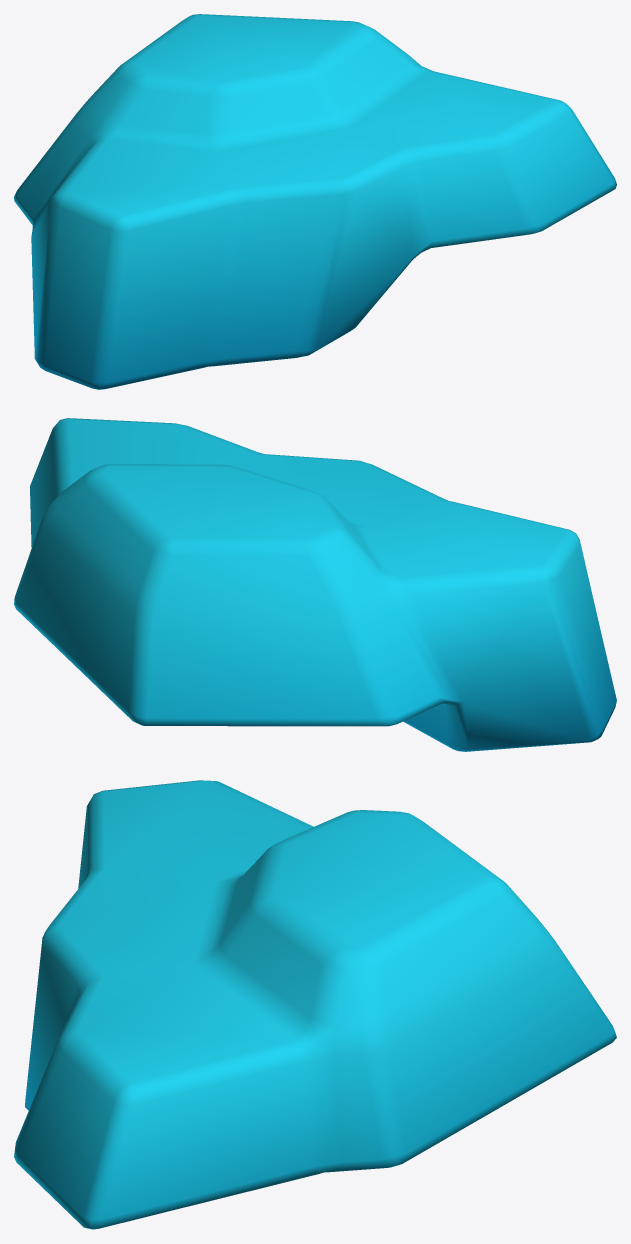
The model's file is Ice_01.fbx.
3 renders of one model, top to bottom at view 1: azimuth 30°, elevation 25°; view 2: azimuth 150°, elevation 25°; view 3: azimuth 270°, elevation 25°, orthographic. The views are drawn at different scales.
Visible parts, largest first — view 1: Ice_01; view 2: Ice_01; view 3: Ice_01.
Part boxes in pixels (bbox=[...]): Ice_01: bbox=[14, 14, 616, 389]; Ice_01: bbox=[14, 418, 616, 751]; Ice_01: bbox=[14, 780, 616, 1229].
Bounding box in the file's own units: 1259 × 894 × 450.
